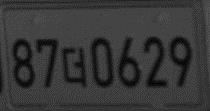0: (91, 37, 115, 87)
2: (142, 36, 168, 88)
6: (117, 35, 141, 88)
7: (34, 37, 58, 88)
8: (11, 37, 36, 88)
9: (168, 35, 193, 88)
더: (61, 45, 88, 88)
